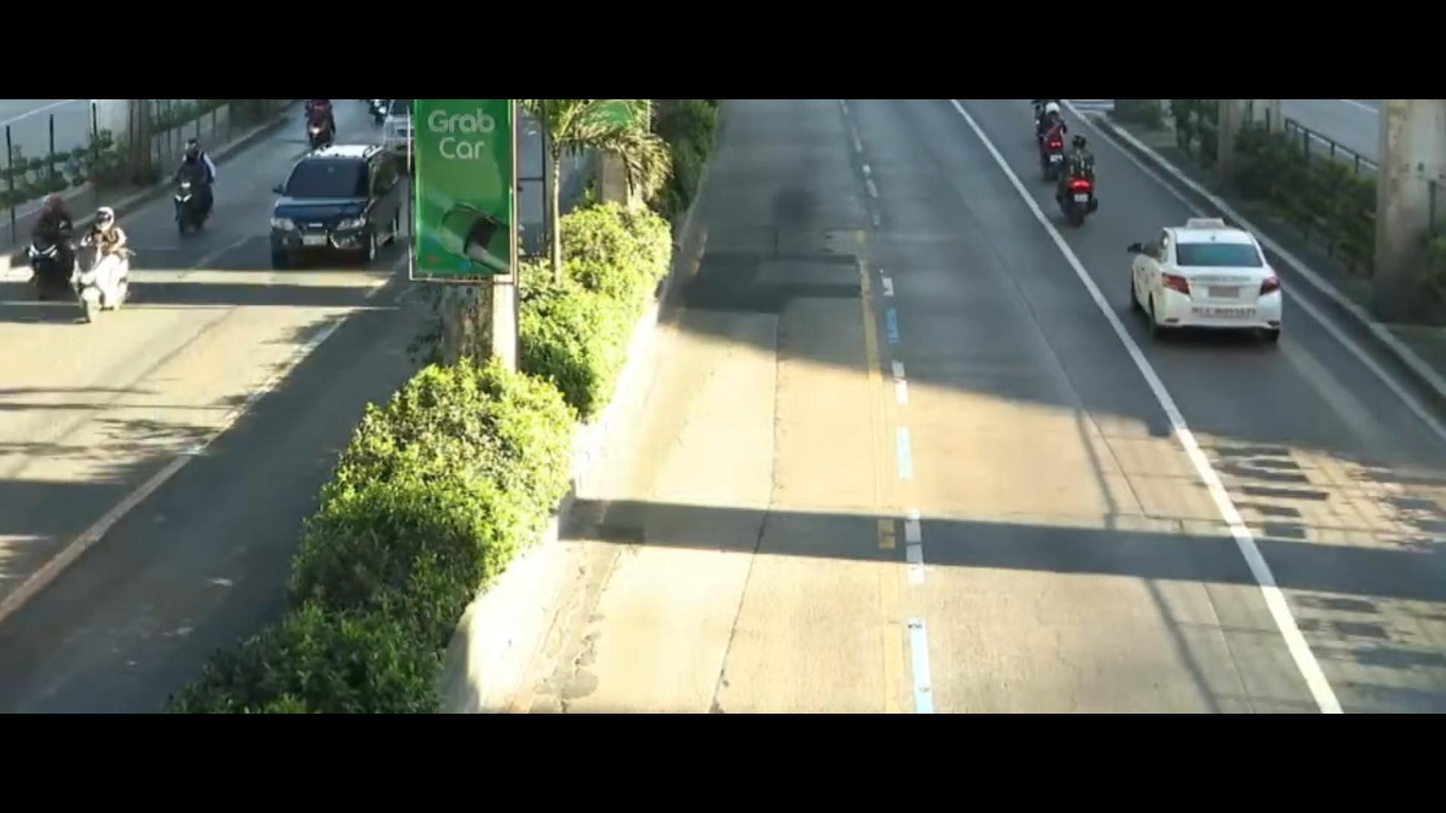Motorcycle: (48, 204, 162, 321), (1042, 128, 1117, 241), (15, 185, 89, 288), (155, 142, 230, 231), (1021, 100, 1077, 172), (289, 100, 345, 151)
SUV: (253, 136, 411, 261)
Sedan: (1107, 202, 1326, 362)
